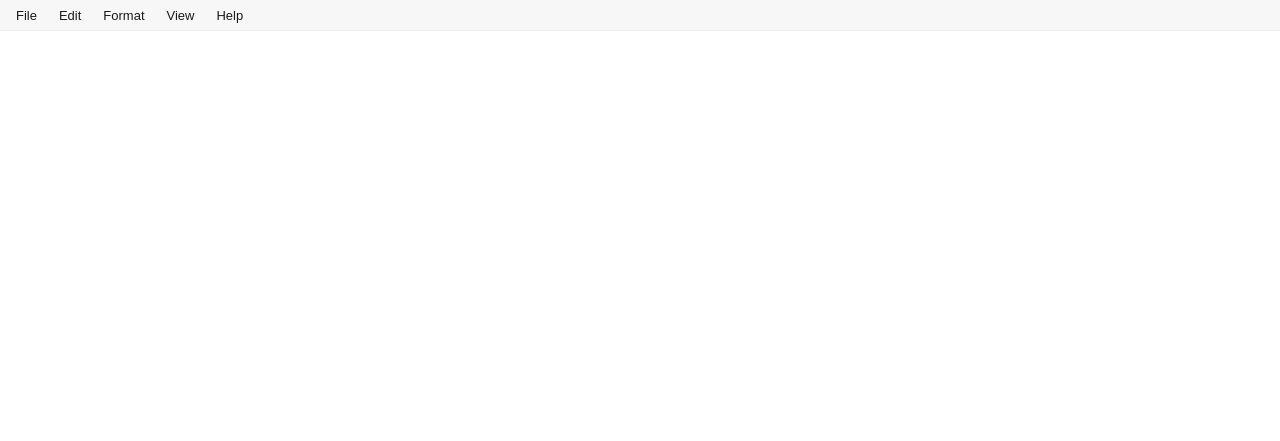
Test: AppMenu › switches to the next menu on ArrowRight from the top level
Click the button "File": (26, 15) [6, 4, 47, 26]
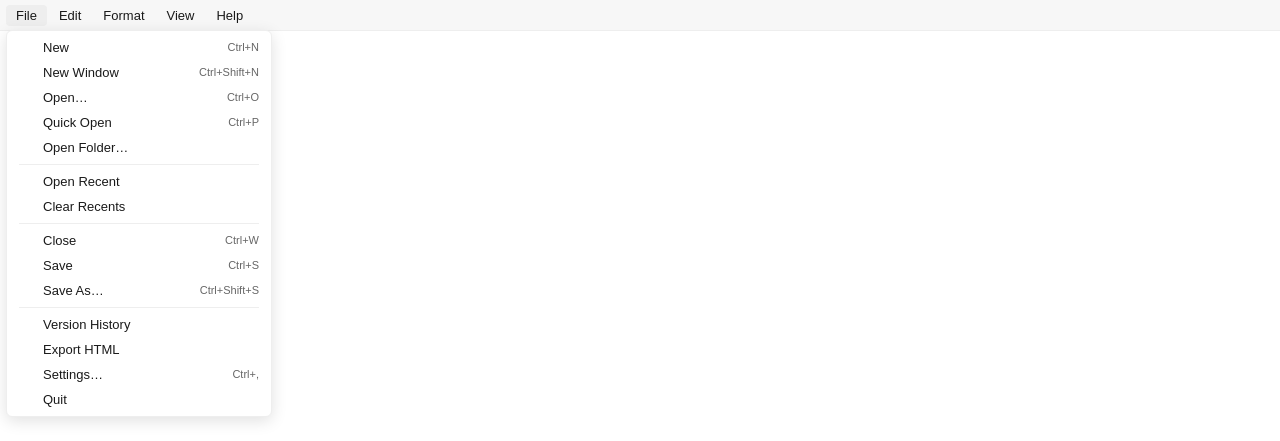
Press ArrowRight in the button "File", box [6, 4, 47, 26]
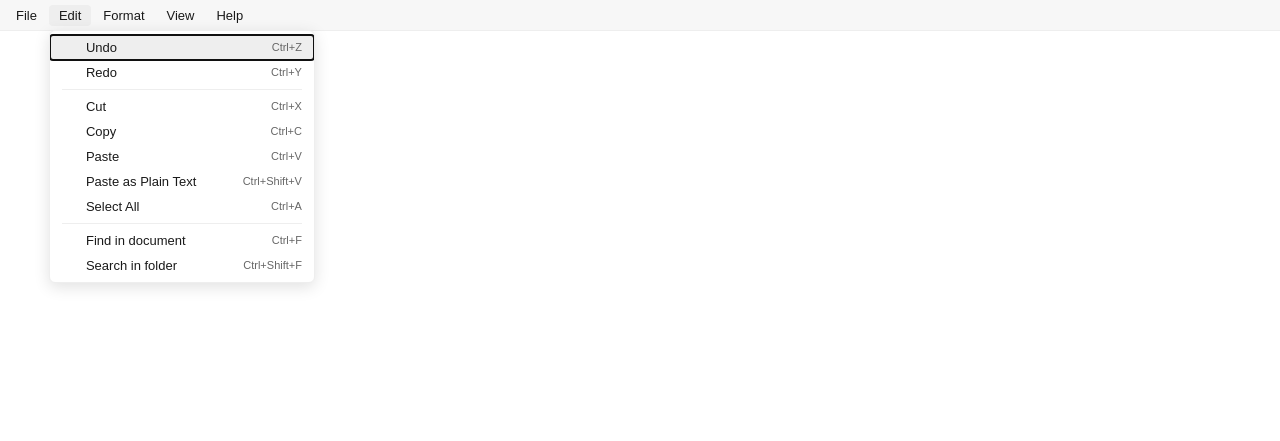
Result: the menu item "Undo Ctrl+Z" is shown at [50, 34, 314, 60]
Press ArrowLeft in the button "Edit", box [49, 4, 91, 26]
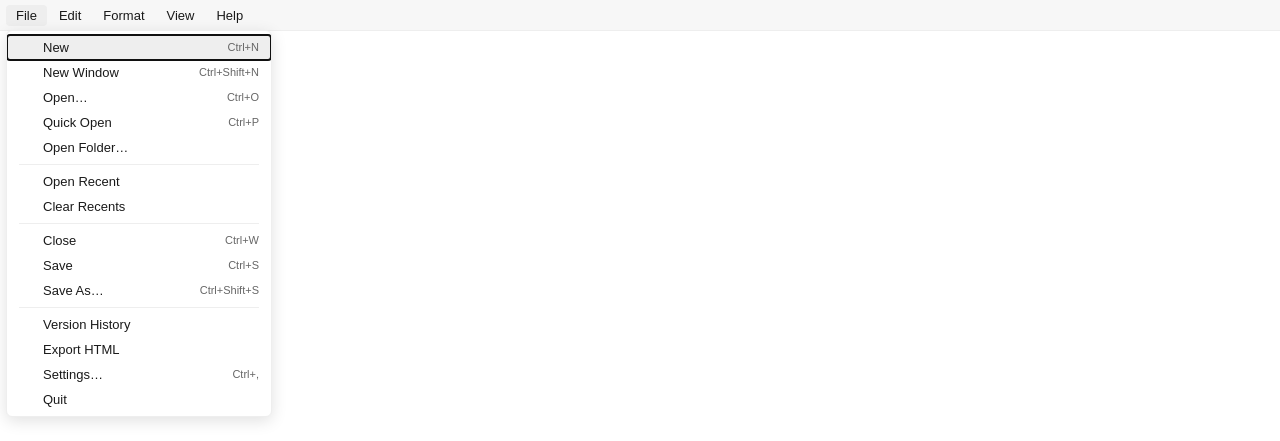
Result: the menu item "Save Ctrl+S" is shown at [7, 252, 271, 278]
